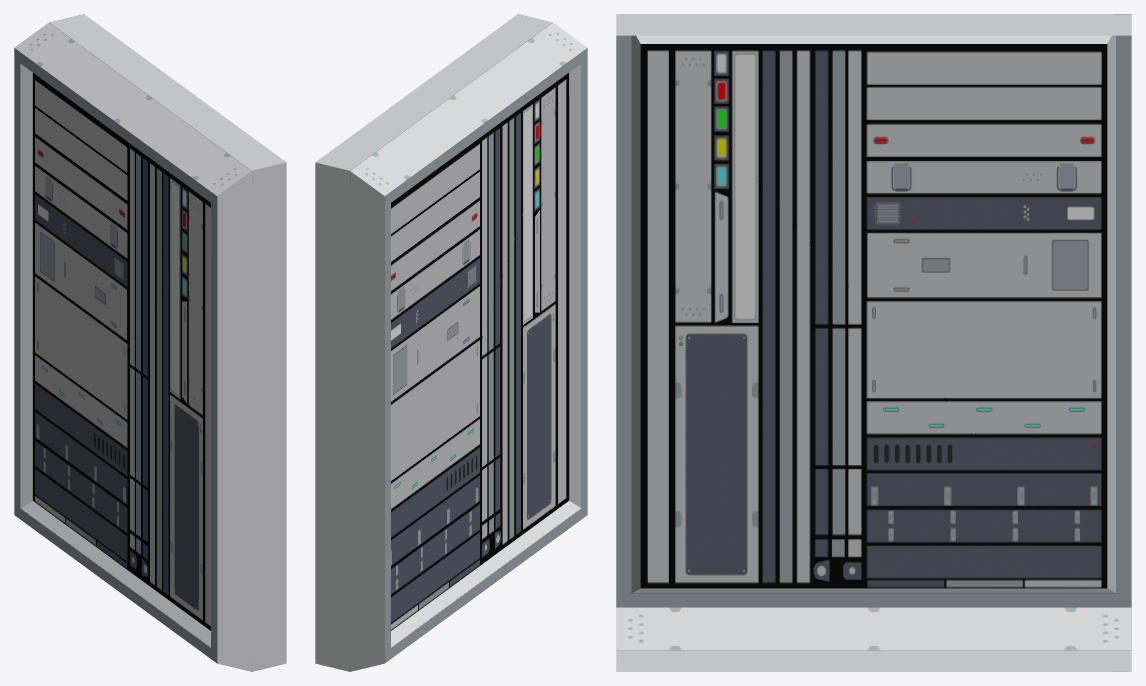
File: Display_Level_01.FBX
3 renders of one model, left to right at view 1: azimuth 30°, elevation 25°; view 2: azimuth 150°, elevation 25°; view 3: azimuth 270°, elevation 25°, orthographic. The views are drawn at different scales.
Parts seen in each view (by area): view 1: Screen_A, Display_Level_01; view 2: Screen_A, Display_Level_01; view 3: Screen_A, Display_Level_01.
Part boxes in pixels (box(x1,y1,x2,y2)): Screen_A: box(33, 73, 210, 630); Display_Level_01: box(14, 14, 286, 671); Screen_A: box(391, 73, 568, 630); Display_Level_01: box(315, 14, 587, 671); Screen_A: box(640, 44, 1107, 588); Display_Level_01: box(616, 14, 1131, 671).
Size of the model in its own units: 0.396 by 2.72 by 2.
